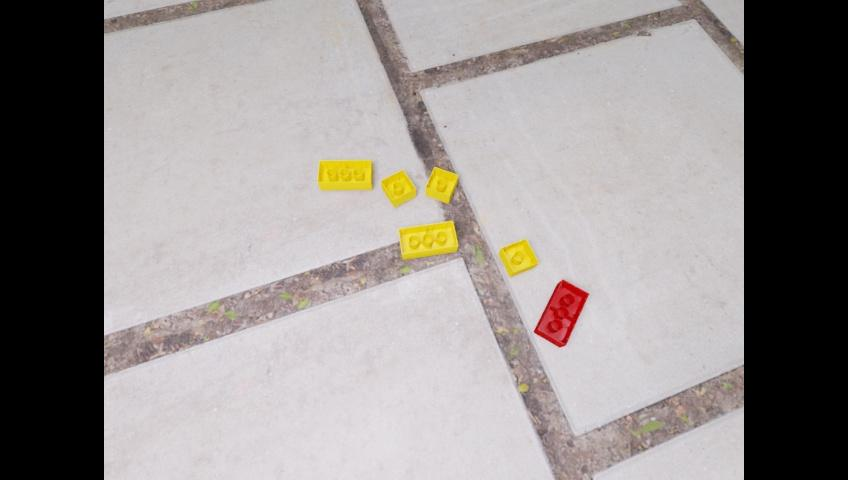2x2_yellow: (498, 238, 538, 276), (380, 169, 415, 207), (425, 166, 457, 203)
4x2_red: (533, 278, 588, 347)
4x2_yellow: (398, 220, 457, 259), (317, 159, 372, 190)
